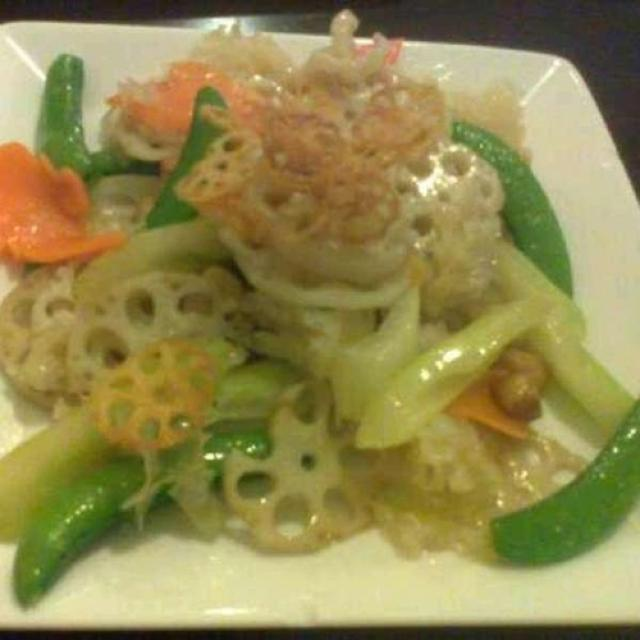蔬菜料理: (13, 34, 599, 602)
